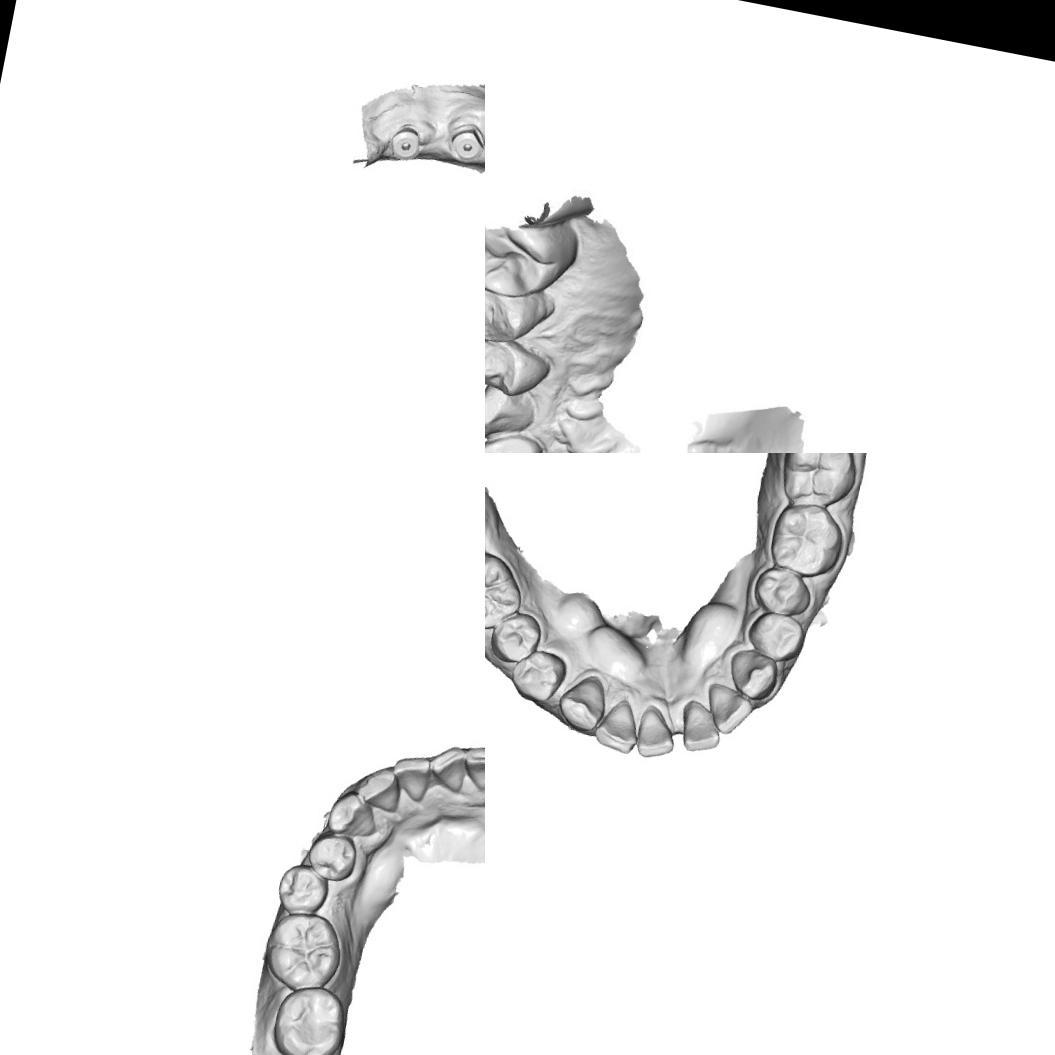canine: (722, 645, 786, 706), (551, 668, 609, 733), (485, 379, 535, 448), (322, 786, 382, 842)
implant: (444, 120, 485, 164), (386, 122, 425, 164)
incisor: (698, 680, 756, 740), (676, 698, 727, 758), (630, 706, 682, 764), (592, 695, 642, 754), (352, 762, 406, 814), (422, 740, 472, 795), (385, 750, 434, 806), (459, 741, 485, 796), (485, 434, 537, 453)
molar: (257, 904, 350, 999), (485, 202, 573, 299), (761, 496, 848, 584), (265, 979, 350, 1055), (775, 453, 863, 514), (485, 545, 528, 637)
premolar: (485, 330, 559, 403), (485, 273, 553, 350), (740, 607, 808, 666), (507, 644, 570, 706), (749, 562, 816, 620), (485, 605, 543, 669), (271, 859, 332, 919), (302, 828, 361, 884)
